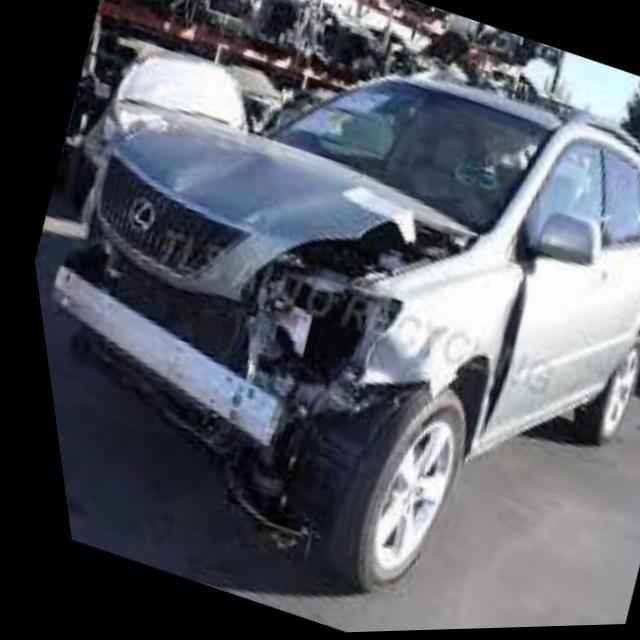no part: (39, 111, 517, 569)
